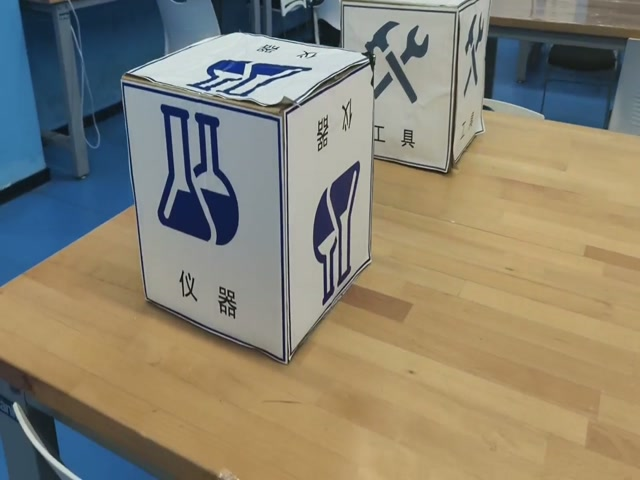Cube_ins: (128, 33, 371, 113)
